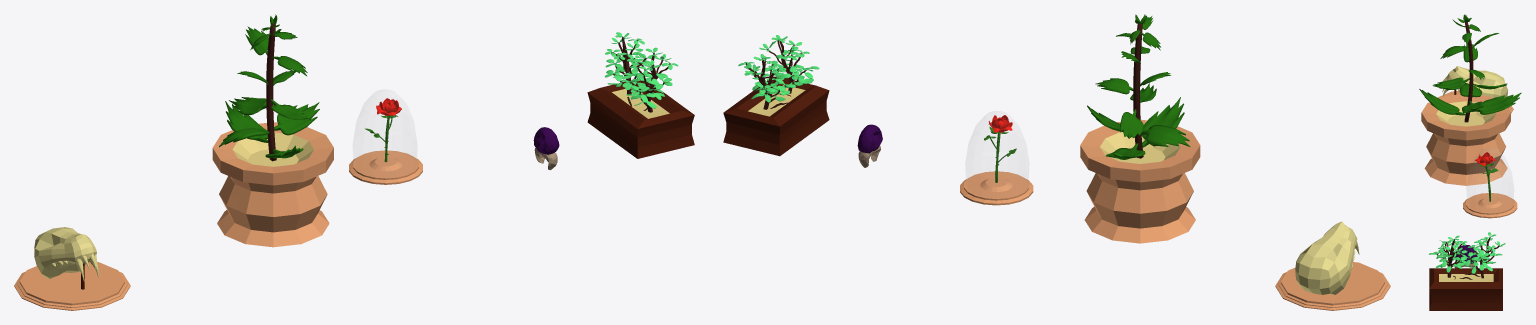
The model's file is HiddenItems.fbx.
3 renders of one model, left to right at view 1: azimuth 30°, elevation 25°; view 2: azimuth 150°, elevation 25°; view 3: azimuth 270°, elevation 25°, orthographic. The views are drawn at different scales.
Parts seen in each view (by area): view 1: POT, LEAF104, Dog Skull, Sphere001.002, snail with shell; view 2: POT, LEAF104, Dog Skull, Sphere001.002, snail with shell; view 3: POT, LEAF104, Sphere001.002, Dog Skull, snail with shell.
Part boxes in pixels (x1,y1,x2,y2): POT: (212,14,333,247); LEAF104: (587,32,694,158); Dog Skull: (14,227,130,310); Sphere001.002: (349,98,422,184); snail with shell: (533,127,559,170); POT: (1080,14,1200,243); LEAF104: (723,35,829,156); Dog Skull: (1275,221,1390,310); Sphere001.002: (960,115,1033,205); snail with shell: (857,124,882,167); POT: (1419,14,1521,185); LEAF104: (1429,232,1505,310); Sphere001.002: (1463,152,1517,218); Dog Skull: (1437,66,1513,113); snail with shell: (1454,245,1477,268).
Bounding box in the file's own units: 7309 × 2433 × 1364.
